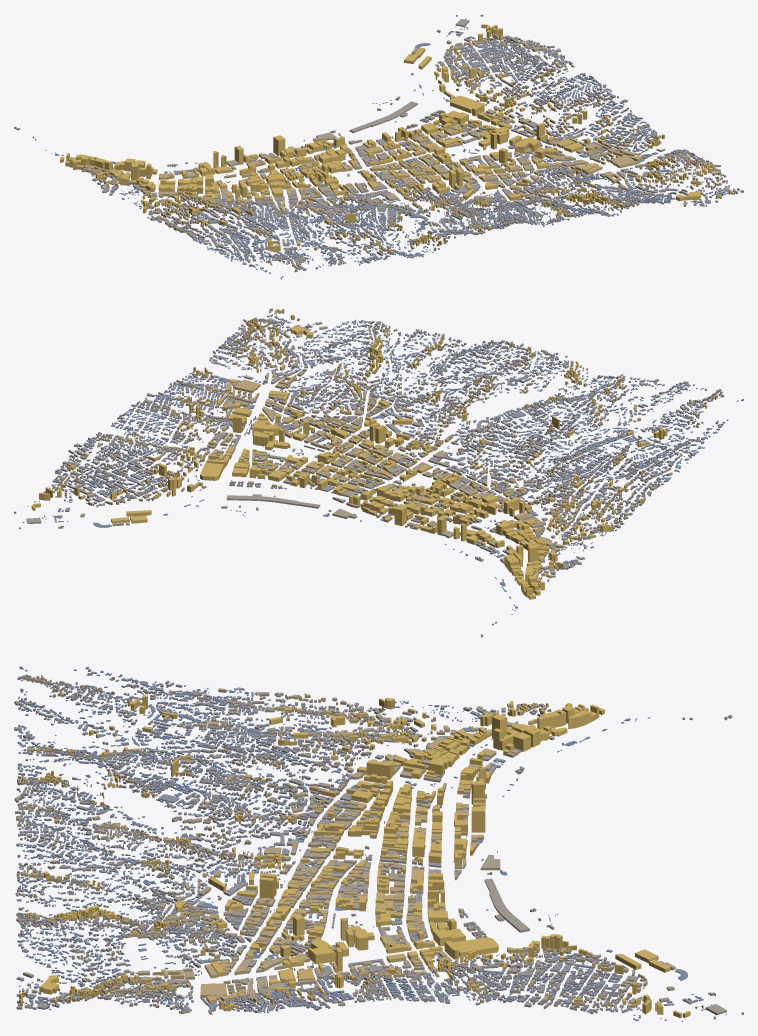
Rendered from buildings.glb.
3 views of the same model, one above another, from view 1: azimuth 30°, elevation 25°; view 2: azimuth 150°, elevation 25°; view 3: azimuth 270°, elevation 25° (orthographic). The views are drawn at different scales.
Parts seen in each view (by area): view 1: buildings; view 2: buildings; view 3: buildings.
Part boxes in pixels (x1,y1,x2,y2): buildings: (14,14,743,279); buildings: (14,308,743,637); buildings: (14,666,743,1021).
Size of the model in its own units: 2674 by 239 by 2602.
